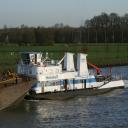tugboat: (8, 50, 126, 104)
